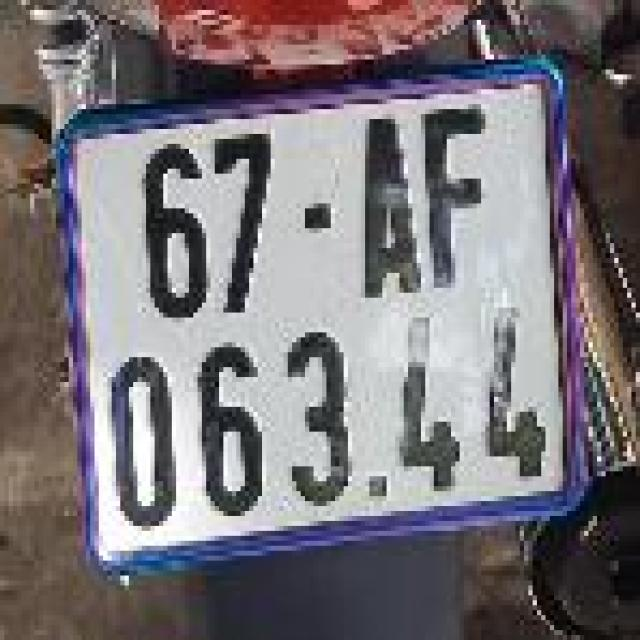0: (101, 355, 182, 528)
3: (279, 330, 361, 508)
4: (395, 313, 473, 496), (481, 305, 558, 489)
6: (135, 134, 213, 322), (198, 340, 270, 518)
7: (204, 131, 286, 320)
A: (357, 114, 425, 298)
F: (419, 102, 496, 295)
